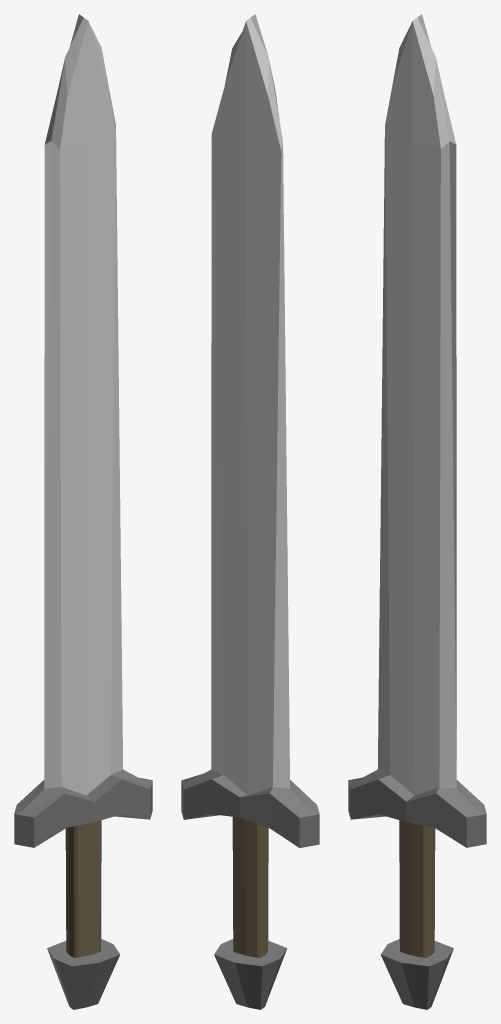
File: LongSwordEnemy.fbx
3 renders of one model, left to right at view 1: azimuth 30°, elevation 25°; view 2: azimuth 150°, elevation 25°; view 3: azimuth 330°, elevation 25°, orthographic.
Visible parts, largest first — view 1: Cube; view 2: Cube; view 3: Cube.
Boxes of the visible parts, <box> form: Cube: <box>14,14,152,1009</box>; Cube: <box>181,14,319,1009</box>; Cube: <box>348,14,486,1009</box>.
Bounding box in the file's own units: 0.8569 × 5.84 × 0.3348.
